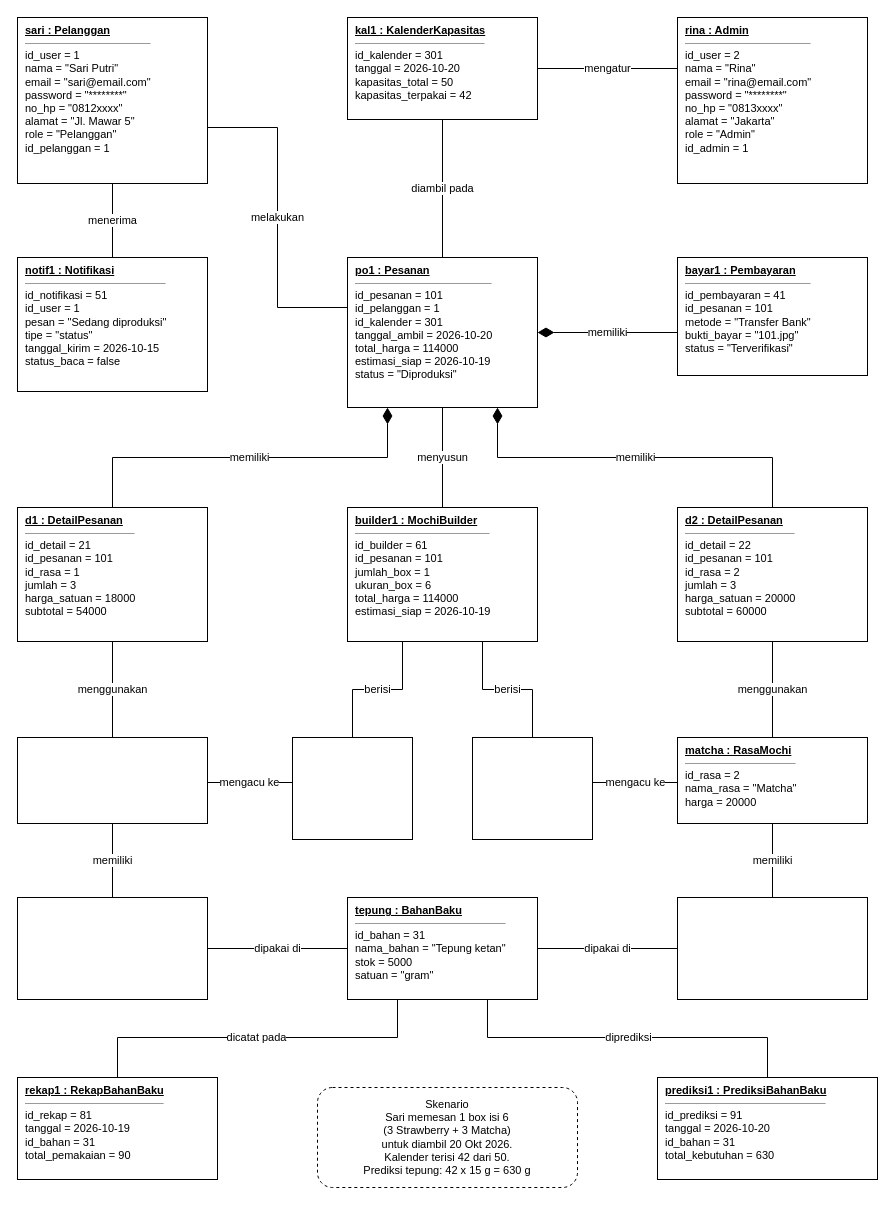
The diagram is 895 pixels wide and 1205 high, and some of its shapes have lost their labels. Here are the shapes that lost their labels. From the top down, the box of each, then its label:
(16, 736, 208, 824): strawberry : RasaMochi id_rasa = 1 nama_rasa = "Strawberry" harga = 18000
(292, 736, 412, 840): box1 : Box id_box = 71 id_builder = 61 id_rasa = 1 jumlah = 3
(472, 736, 592, 840): box2 : Box id_box = 72 id_builder = 61 id_rasa = 2 jumlah = 3
(16, 896, 208, 1000): resep1 : ResepRasa id_resep = 1 id_rasa = 1 id_bahan = 31 takaran = 15
(676, 896, 868, 1000): resep2 : ResepRasa id_resep = 2 id_rasa = 2 id_bahan = 31 takaran = 15
